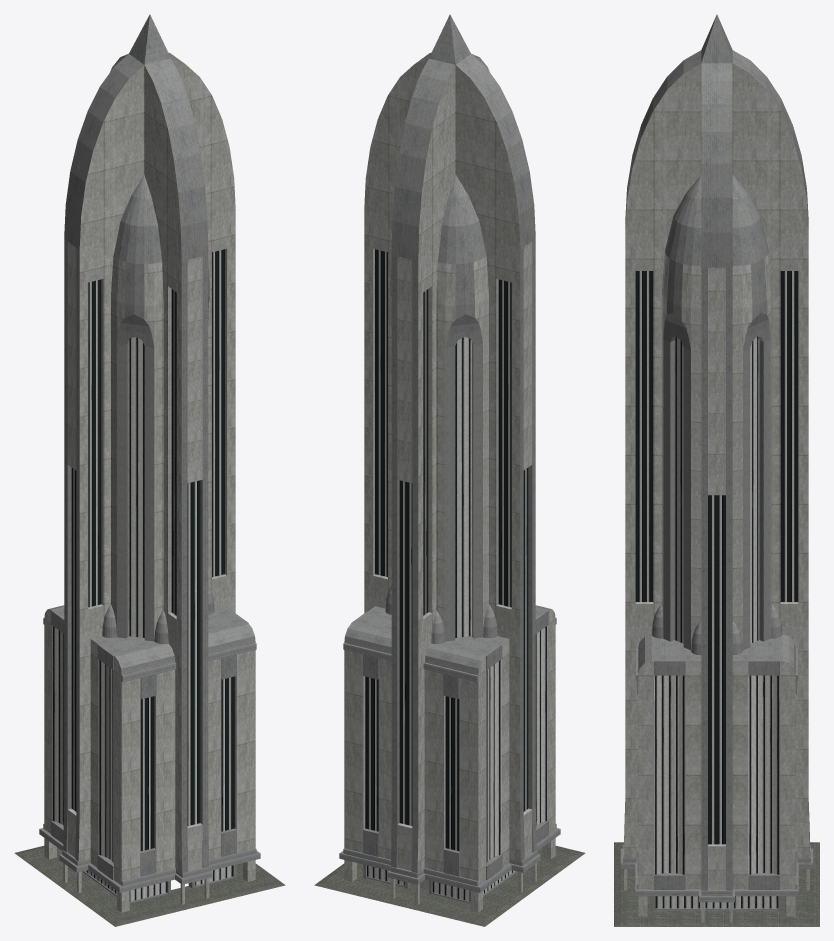
File: thm_corl_skyskraper_s01_r0_mesh_l0.fbx
3 views of the same model, side by side, from view 1: azimuth 30°, elevation 25°; view 2: azimuth 150°, elevation 25°; view 3: azimuth 270°, elevation 25° (orthographic).
Visible parts, largest first — view 1: mesh_node; view 2: mesh_node; view 3: mesh_node.
Boxes of the visible parts, x1,y1,x2,y2 form: mesh_node: (14,14,285,926); mesh_node: (314,14,585,926); mesh_node: (614,14,819,926).
Bounding box in the file's own units: 43.96 × 210 × 45.09.
